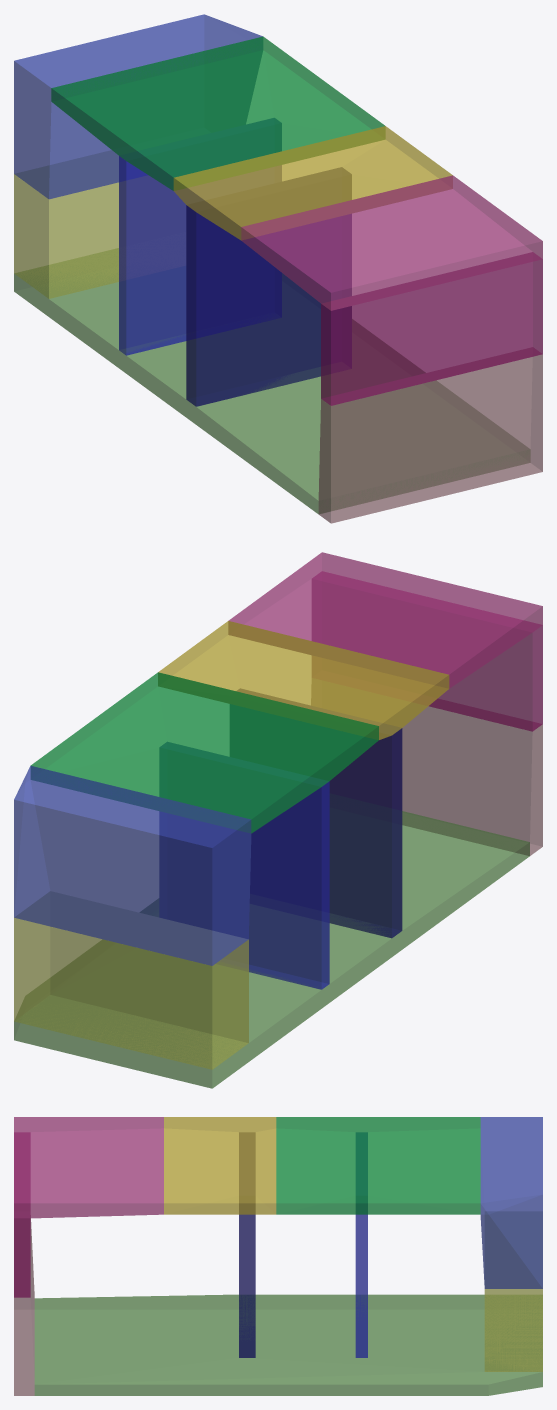
File: FridgeArea.obj
The picture shows the model from 3 angles, top to bottom: view 1: azimuth 30°, elevation 25°; view 2: azimuth 150°, elevation 25°; view 3: azimuth 270°, elevation 25°; orthographic projection. The views are drawn at different scales.
Visible parts, largest first — view 1: Shape_IndexedFaceSet.002_Shape_IndexedFaceSet.273; view 2: Shape_IndexedFaceSet.002_Shape_IndexedFaceSet.273; view 3: Shape_IndexedFaceSet.002_Shape_IndexedFaceSet.273.
Part boxes in pixels (x1,y1,x2,y2): Shape_IndexedFaceSet.002_Shape_IndexedFaceSet.273: (14, 14, 542, 523); Shape_IndexedFaceSet.002_Shape_IndexedFaceSet.273: (14, 552, 542, 1088); Shape_IndexedFaceSet.002_Shape_IndexedFaceSet.273: (14, 1117, 542, 1395).
Bounding box in the file's own units: 0.5872 × 0.6112 × 1.52.
